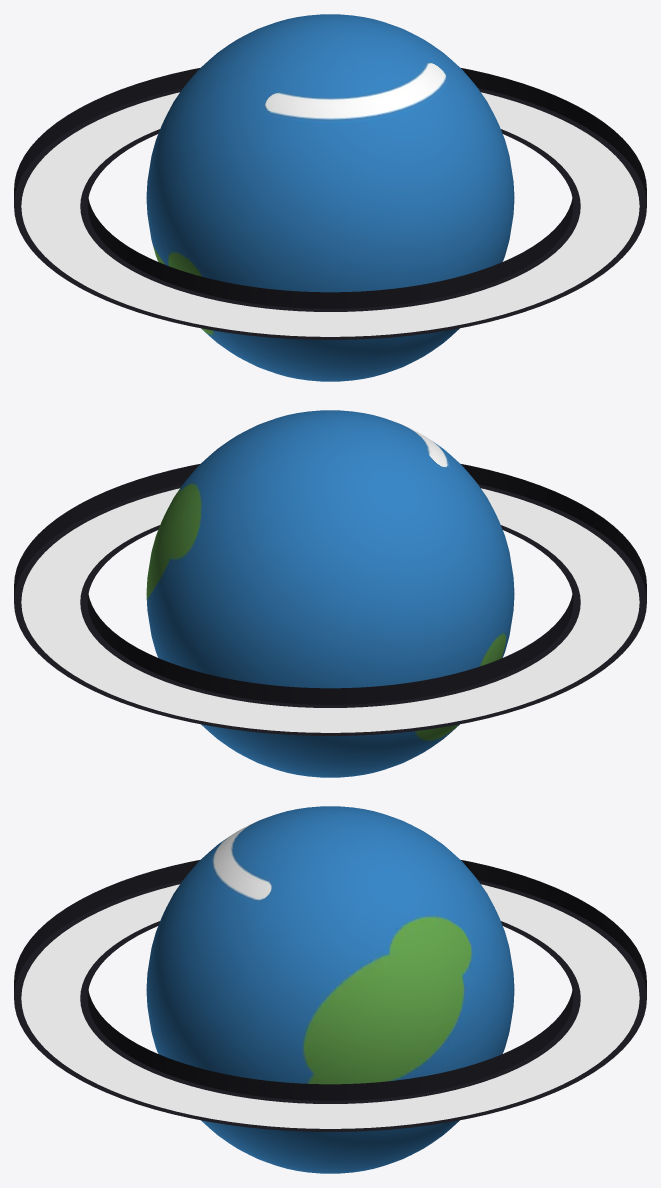
Rendered from ball_earth.glb.
3 renders of one model, top to bottom at view 1: azimuth 30°, elevation 25°; view 2: azimuth 150°, elevation 25°; view 3: azimuth 270°, elevation 25°, orthographic.
Parts seen in each view (by area): view 1: ball_earth, ring; view 2: ball_earth, ring; view 3: ball_earth, ring.
Boxes of the visible parts, x1,y1,x2,y2 form: ball_earth: (146, 14, 514, 381); ring: (14, 68, 646, 339); ball_earth: (146, 410, 514, 777); ring: (14, 464, 646, 735); ball_earth: (146, 806, 514, 1173); ring: (14, 860, 646, 1131).
Size of the model in its own units: 1.72 by 1 by 1.72.
2 materials, 1 textured.
